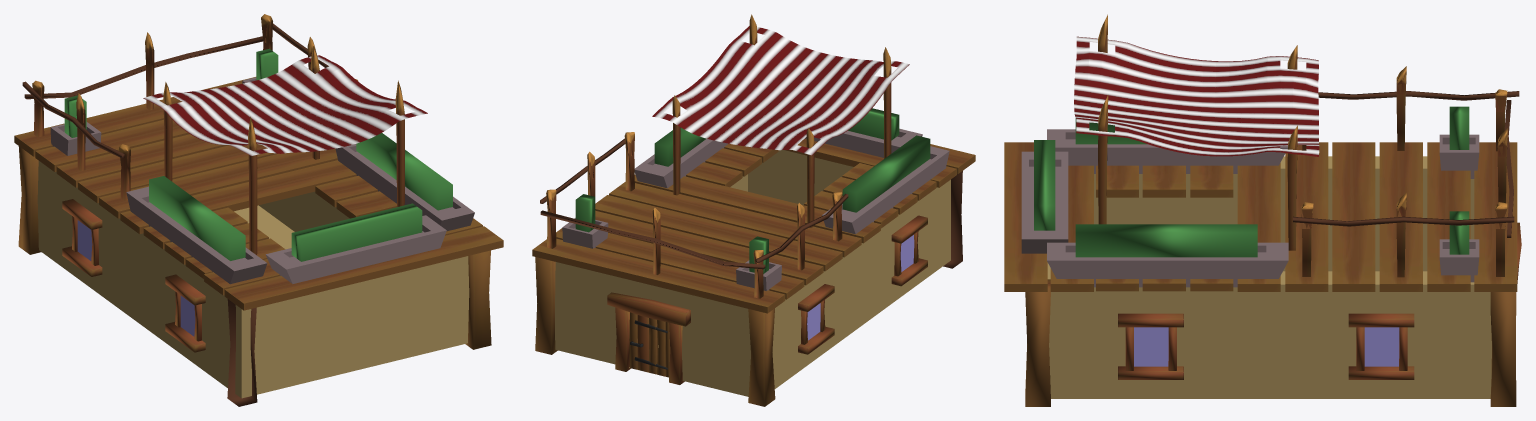
The model's file is shop-house-balcony.glb.
The picture shows the model from 3 angles, left to right: view 1: azimuth 30°, elevation 25°; view 2: azimuth 150°, elevation 25°; view 3: azimuth 270°, elevation 25°; orthographic projection. The views are drawn at different scales.
Parts seen in each view (by area): view 1: shop-house-balcony_body; view 2: shop-house-balcony_body; view 3: shop-house-balcony_body.
Boxes of the visible parts, x1,y1,x2,y2 form: shop-house-balcony_body: (14, 14, 503, 406); shop-house-balcony_body: (532, 14, 975, 406); shop-house-balcony_body: (1004, 14, 1521, 406).
Bounding box in the file's own units: 8 × 7.42 × 12.34.
Materials: 10 (4 with a texture image).
